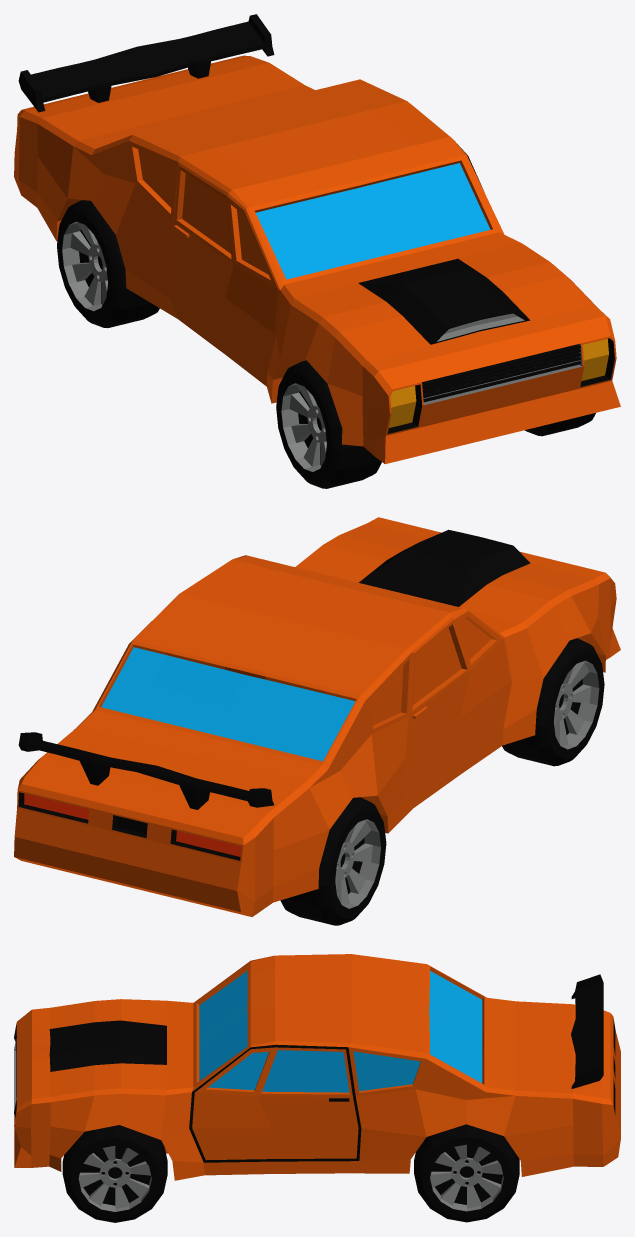
File: Prototype_04.fbx
3 renders of one model, top to bottom at view 1: azimuth 30°, elevation 25°; view 2: azimuth 150°, elevation 25°; view 3: azimuth 270°, elevation 25°, orthographic. The views are drawn at different scales.
Parts seen in each view (by area): view 1: Body_04, Car_F_R, Car_R_R, Car_F_L; view 2: Body_04, Car_R_R, Car_F_R; view 3: Body_04, Car_F_L, Car_R_L.
Part boxes in pixels (bbox=[...]): Body_04: bbox=[14, 14, 620, 464]; Car_F_R: bbox=[276, 360, 381, 488]; Car_R_R: bbox=[57, 200, 159, 328]; Car_F_L: bbox=[525, 413, 595, 436]; Body_04: bbox=[14, 517, 620, 916]; Car_R_R: bbox=[280, 797, 386, 925]; Car_F_R: bbox=[502, 638, 604, 766]; Body_04: bbox=[14, 954, 620, 1180]; Car_F_L: bbox=[62, 1125, 167, 1222]; Car_R_L: bbox=[414, 1124, 519, 1222].
Bounding box in the file's own units: 3.69 × 8.85 × 2.81.
